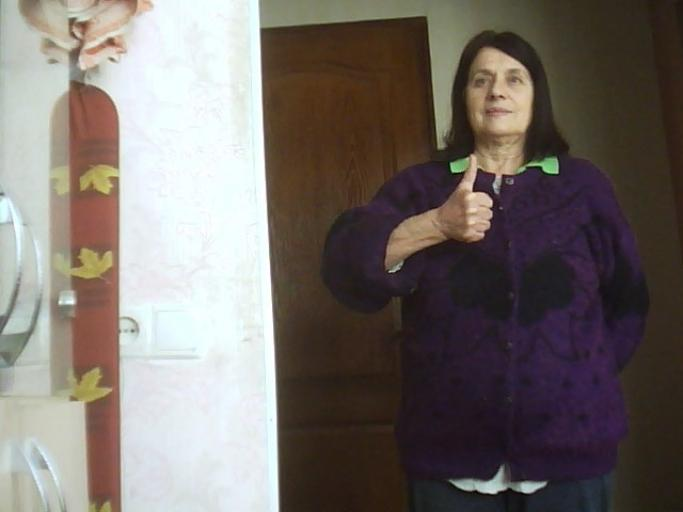like: (436, 151, 494, 244)
